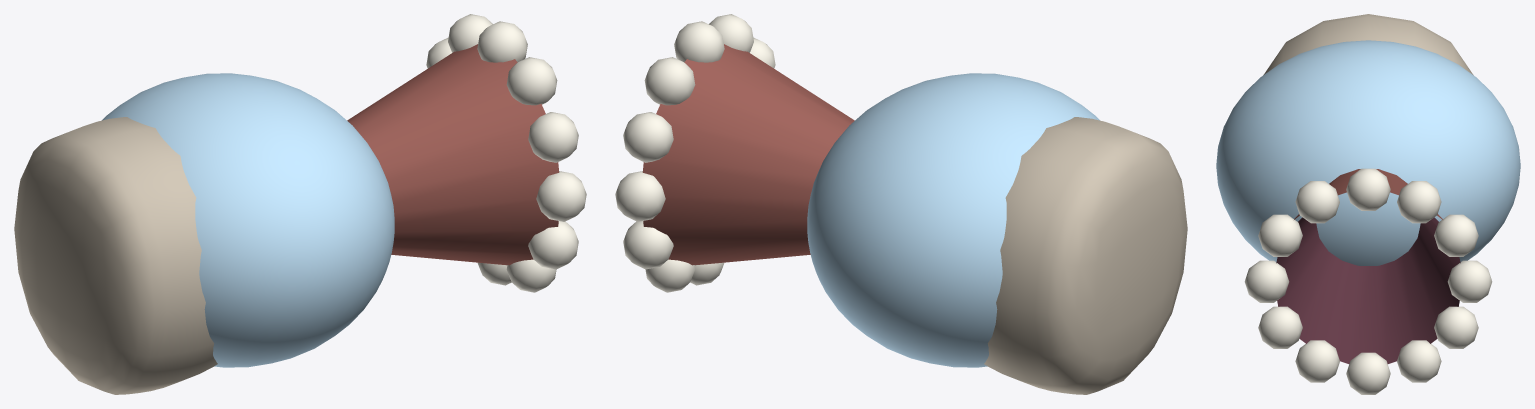
The model's file is cell.jetnozzle.glb.
3 renders of one model, left to right at view 1: azimuth 30°, elevation 25°; view 2: azimuth 150°, elevation 25°; view 3: azimuth 270°, elevation 25°, orthographic. The views are drawn at different scales.
Parts seen in each view (by area): view 1: Vacuole, Skin, Chitin, Claw; view 2: Vacuole, Skin, Chitin, Claw; view 3: Vacuole, Claw, Dark, Skin, Chitin.
Part boxes in pixels (<box>): Vacuole: <box>102,73,394,367</box>; Skin: <box>14,117,217,394</box>; Chitin: <box>347,44,559,265</box>; Claw: <box>426,14,586,292</box>; Vacuole: <box>807,73,1099,367</box>; Skin: <box>984,117,1187,394</box>; Chitin: <box>642,44,854,265</box>; Claw: <box>615,14,775,292</box>; Vacuole: <box>1216,40,1520,265</box>; Claw: <box>1244,168,1492,394</box>; Dark: <box>1276,217,1460,363</box>; Skin: <box>1263,14,1473,75</box>; Chitin: <box>1294,169,1442,219</box>.
Size of the model in its own units: 0.4573 by 0.2477 by 0.3.
